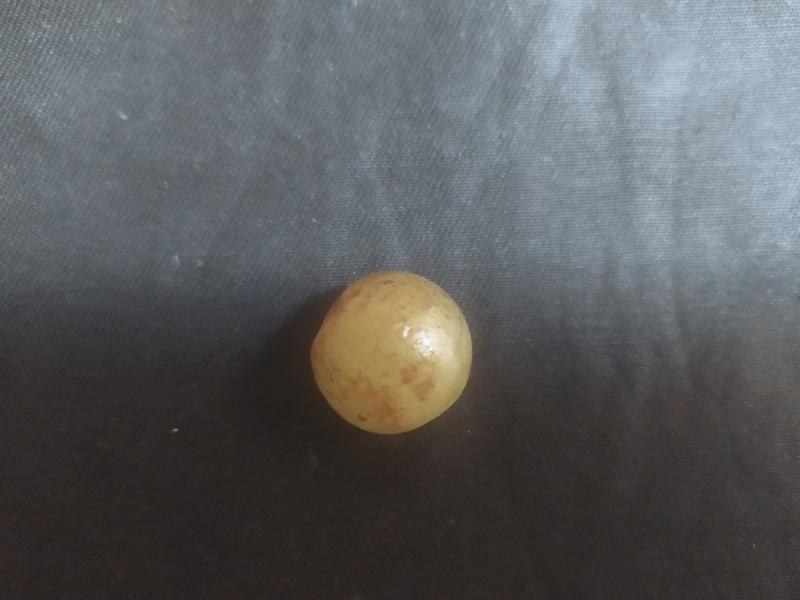Grape Rotten: (312, 270, 474, 435)
